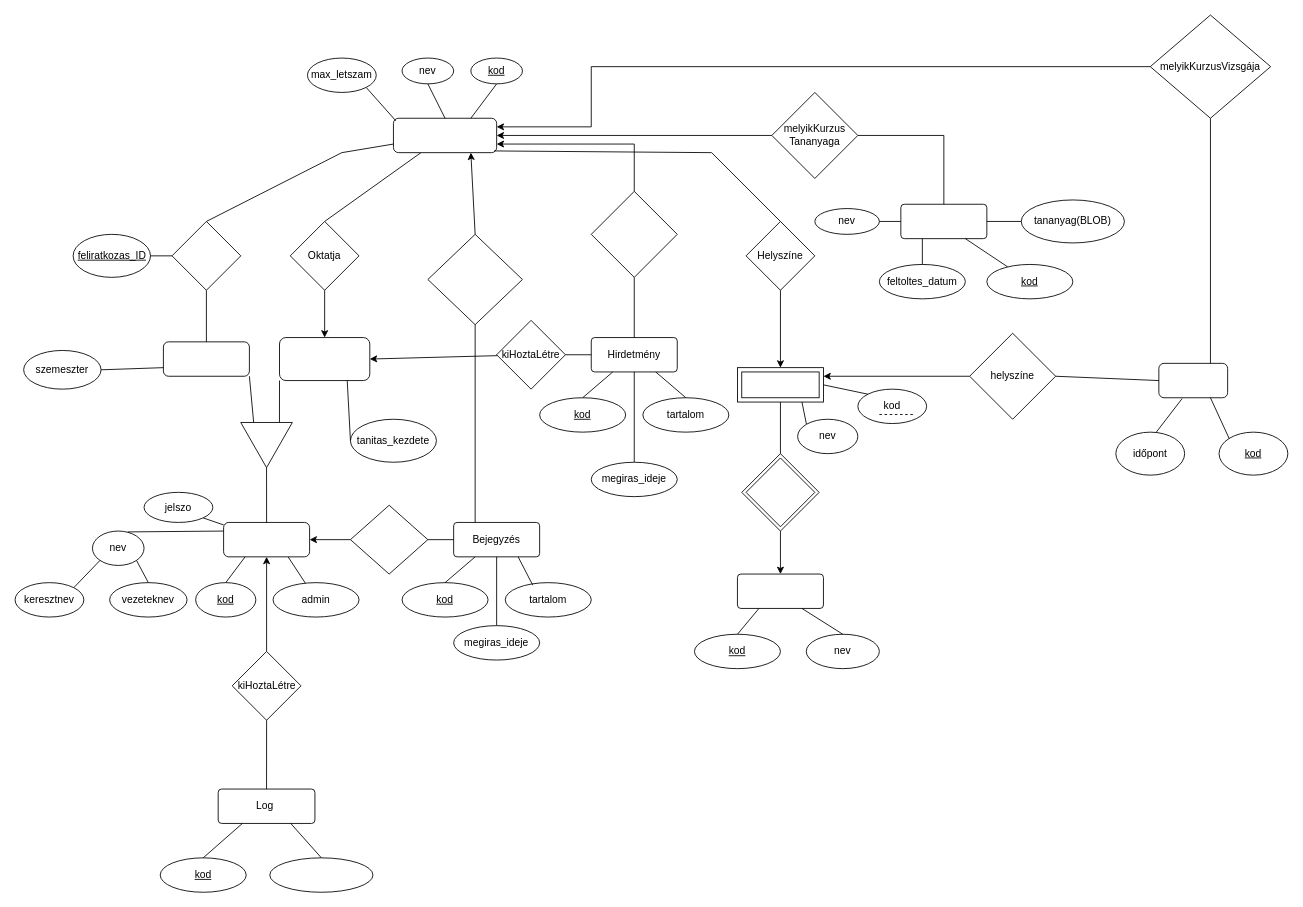
This 1303x907 diagram has some shape labels left out. The centre of each missing label's shape, as x and y in pixels:
bejelentkezesi_ido: the point at 321,874
Felhasználó: the point at 266,539
Feliratkozas: the point at 206,255
Hallgató: the point at 206,358
Kurzus: the point at 445,135
létrehozó: the point at 389,539
melyikKurzus Bejegyzése: the point at 474,279
melyikKurzus Hirdetménye: the point at 633,233
Oktató: the point at 324,359
Tananyag: the point at 943,221
Terem: the point at 780,384
Vizsga: the point at 1193,380
Épület: the point at 780,590
Épülete: the point at 780,492
